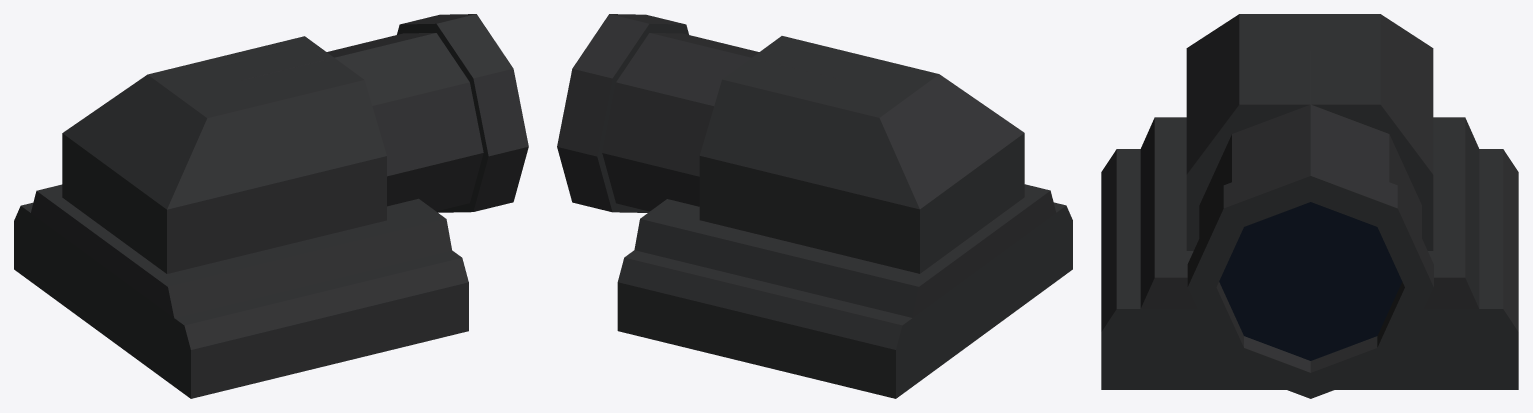
File: Flashlight.glb
3 views of the same model, side by side, from view 1: azimuth 30°, elevation 25°; view 2: azimuth 150°, elevation 25°; view 3: azimuth 270°, elevation 25° (orthographic). The views are drawn at different scales.
Parts seen in each view (by area): view 1: Flashlight; view 2: Flashlight; view 3: Flashlight.
Boxes of the visible parts, box(x1,y1,x2,y2) form: Flashlight: box(14, 14, 528, 398); Flashlight: box(557, 14, 1072, 398); Flashlight: box(1101, 14, 1518, 398).
Size of the model in its own units: 0.117 by 0.0682 by 0.0956.
